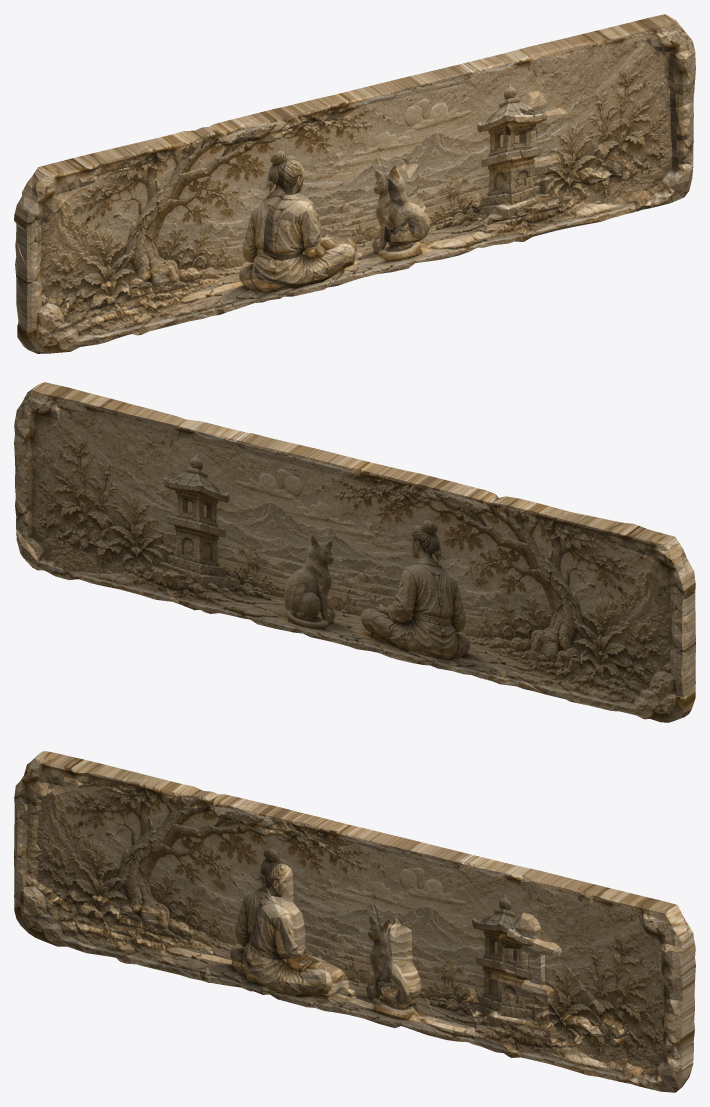
The model's file is meow.glb.
The picture shows the model from 3 angles, top to bottom: view 1: azimuth 30°, elevation 25°; view 2: azimuth 150°, elevation 25°; view 3: azimuth 330°, elevation 25°; orthographic projection.
Visible parts, largest first — view 1: Mesh_0.002; view 2: Mesh_0.002; view 3: Mesh_0.002.
Boxes of the visible parts, x1,y1,x2,y2 form: Mesh_0.002: (14, 14, 695, 353); Mesh_0.002: (14, 382, 695, 722); Mesh_0.002: (14, 751, 695, 1092).
Size of the model in its own units: 2 by 0.524 by 0.1112.
Materials: 1 (1 with a texture image).
